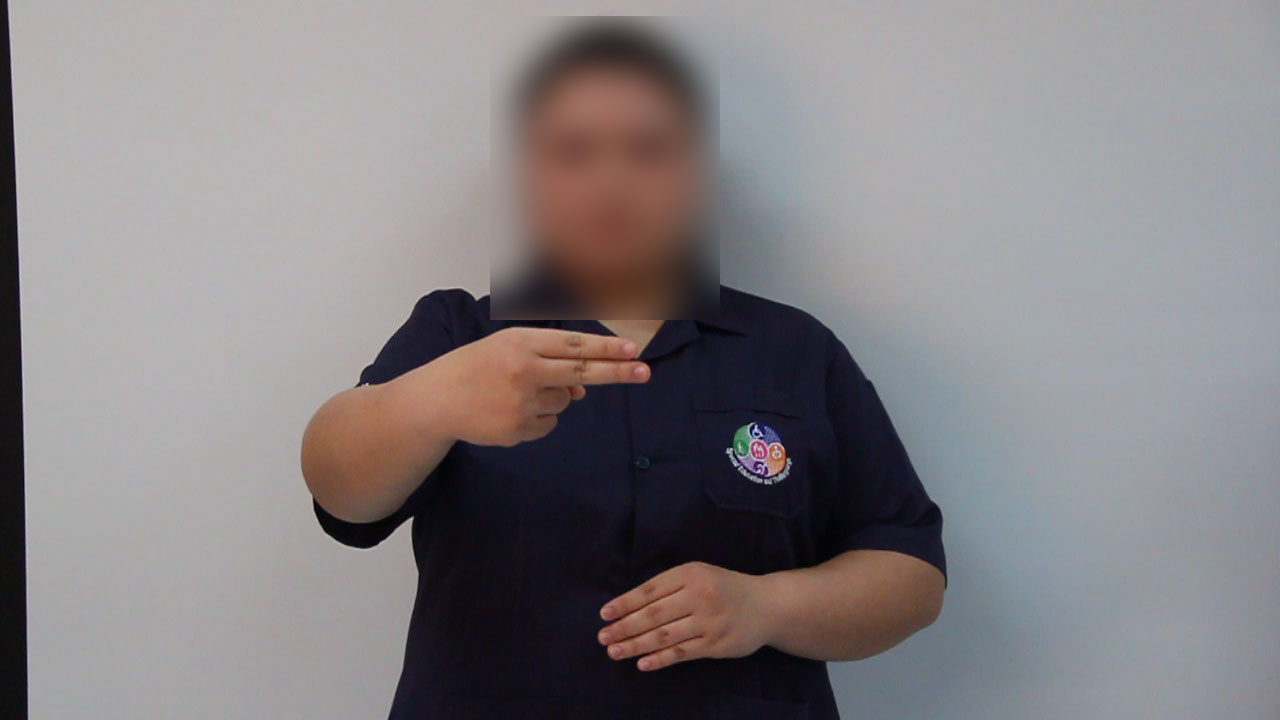hor: (427, 307, 666, 460)
